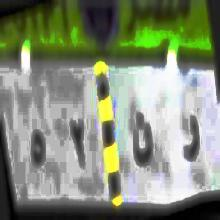2: (69, 114, 88, 182)
5: (26, 122, 50, 180)
noon: (126, 98, 159, 192)
raa: (179, 112, 203, 174)
